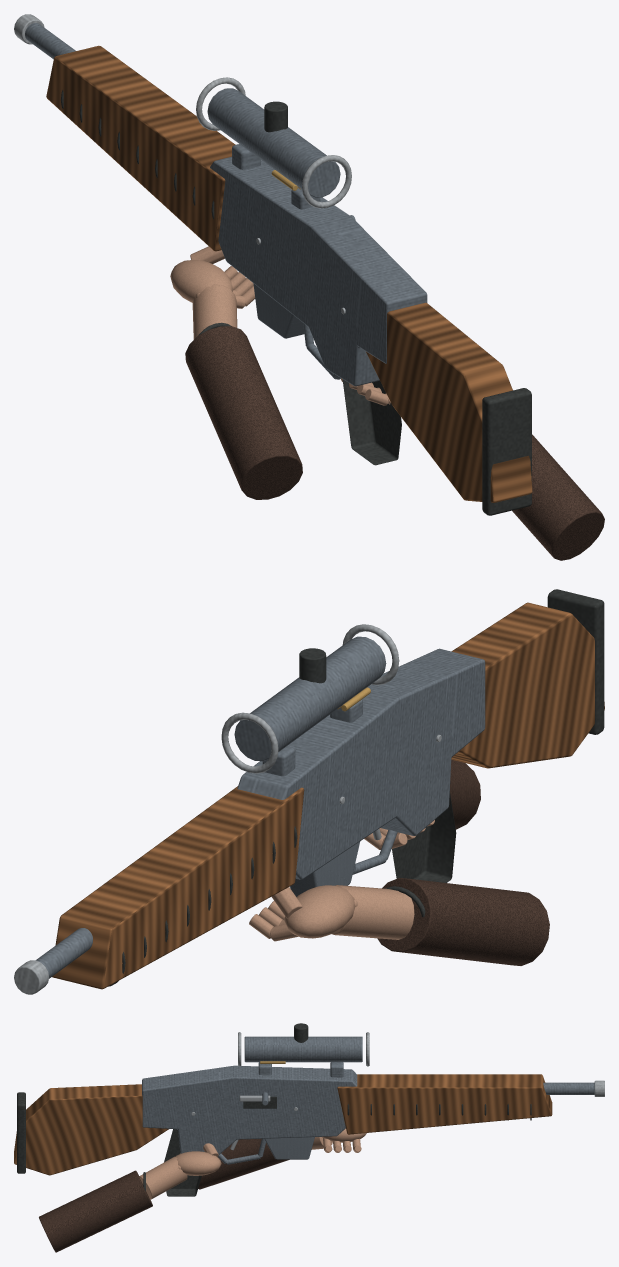
The model's file is sks.glb.
3 views of the same model, one above another, from view 1: azimuth 30°, elevation 25°; view 2: azimuth 150°, elevation 25°; view 3: azimuth 270°, elevation 25° (orthographic). The views are drawn at different scales.
Visible parts, largest first — view 1: sks__BODY, sks__HAND_L, sks__HAND_R, sks__MAGAZINE; view 2: sks__BODY, sks__HAND_L, sks__HAND_R, sks__MAGAZINE; view 3: sks__BODY, sks__HAND_R, sks__HAND_L, sks__MAGAZINE.
Boxes of the visible parts, bbox=[...] form: sks__BODY: bbox=[14, 14, 532, 515]; sks__HAND_L: bbox=[170, 246, 302, 499]; sks__HAND_R: bbox=[341, 378, 604, 560]; sks__MAGAZINE: bbox=[253, 283, 304, 338]; sks__BODY: bbox=[14, 589, 604, 994]; sks__HAND_L: bbox=[249, 877, 549, 965]; sks__HAND_R: bbox=[364, 759, 480, 849]; sks__MAGAZINE: bbox=[290, 841, 360, 896]; sks__BODY: bbox=[14, 1023, 604, 1196]; sks__HAND_R: bbox=[39, 1143, 221, 1252]; sks__HAND_L: bbox=[198, 1128, 366, 1189]; sks__MAGAZINE: bbox=[264, 1137, 314, 1159].
Bounding box in the file's own units: 0.3294 × 0.4251 × 1.15.
7 materials, 7 textured.
